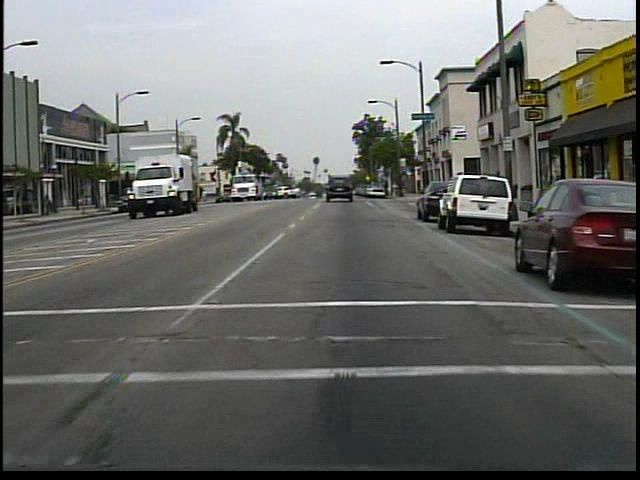person: (45, 192, 54, 218)
